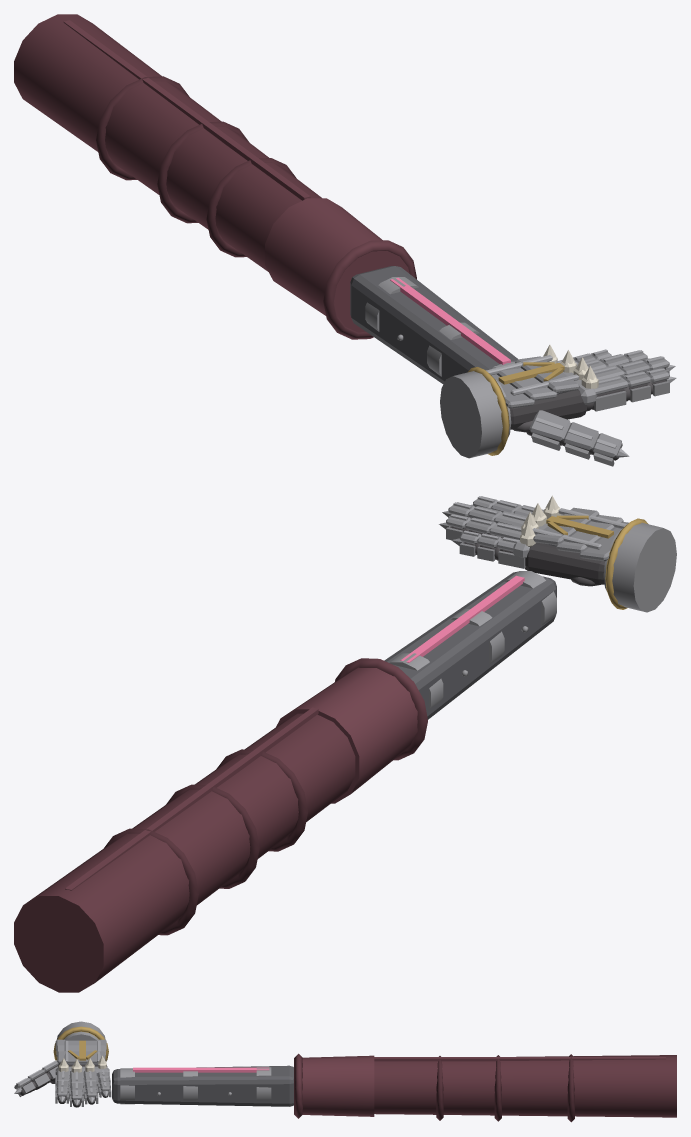
File: arm.glb
3 views of the same model, one above another, from view 1: azimuth 30°, elevation 25°; view 2: azimuth 150°, elevation 25°; view 3: azimuth 270°, elevation 25° (orthographic). The views are drawn at different scales.
Visible parts, largest first — view 1: sleeve, sleeve*1.001, black*1.35, steel.021, sleeve*1.25, sleeve.001, leather, swordglow, sleeve*0.7, sleeve*0.001, sleeve*0.002, steel.017 (+4 smaller); view 2: sleeve, black*1.35, sleeve*1.001, steel.021, sleeve*1.25, leather, sleeve.001, swordglow, sleeve*0.7, sleeve*0.001, sleeve*0.002, glow*0.003 (+3 smaller); view 3: sleeve, black*1.35, sleeve*1.001, sleeve*1.25, swordglow, sleeve.001, sleeve*0.7, sleeve*0.001, sleeve*0.002, steel.003, glow*0.003, steel.001 (+6 smaller).
Part boxes in pixels (x1,y1,x2,y2): sleeve: [14, 14, 321, 271]; sleeve*1.001: [265, 198, 409, 332]; black*1.35: [350, 266, 517, 384]; steel.021: [440, 371, 502, 458]; sleeve*1.25: [63, 20, 310, 200]; sleeve.001: [323, 240, 416, 339]; leather: [510, 390, 586, 429]; swordglow: [390, 277, 510, 364]; sleeve*0.7: [96, 76, 189, 180]; sleeve*0.001: [157, 121, 249, 223]; sleeve*0.002: [206, 158, 296, 257]; steel.017: [529, 410, 570, 440]; sleeve: [14, 713, 355, 992]; black*1.35: [384, 571, 556, 719]; sleeve*1.001: [276, 667, 417, 803]; steel.021: [612, 522, 676, 612]; sleeve*1.25: [65, 707, 318, 890]; leather: [525, 542, 604, 584]; sleeve.001: [335, 658, 427, 760]; swordglow: [400, 575, 524, 662]; sleeve*0.7: [104, 828, 198, 935]; sleeve*0.001: [166, 784, 259, 888]; sleeve*0.002: [216, 749, 307, 851]; glow*0.003: [605, 518, 648, 609]; sleeve: [374, 1055, 676, 1117]; black*1.35: [112, 1065, 293, 1106]; sleeve*1.001: [302, 1055, 374, 1116]; sleeve*1.25: [374, 1057, 665, 1061]; swordglow: [133, 1067, 269, 1072]; sleeve.001: [294, 1053, 302, 1118]; sleeve*0.7: [567, 1054, 574, 1122]; sleeve*0.001: [494, 1055, 501, 1121]; sleeve*0.002: [436, 1056, 443, 1120]; steel.003: [120, 1068, 134, 1104]; glow*0.003: [53, 1026, 108, 1061]; steel.001: [256, 1066, 271, 1100].
Bounding box in the file's own units: 0.2027 × 0.1115 × 0.9092.
